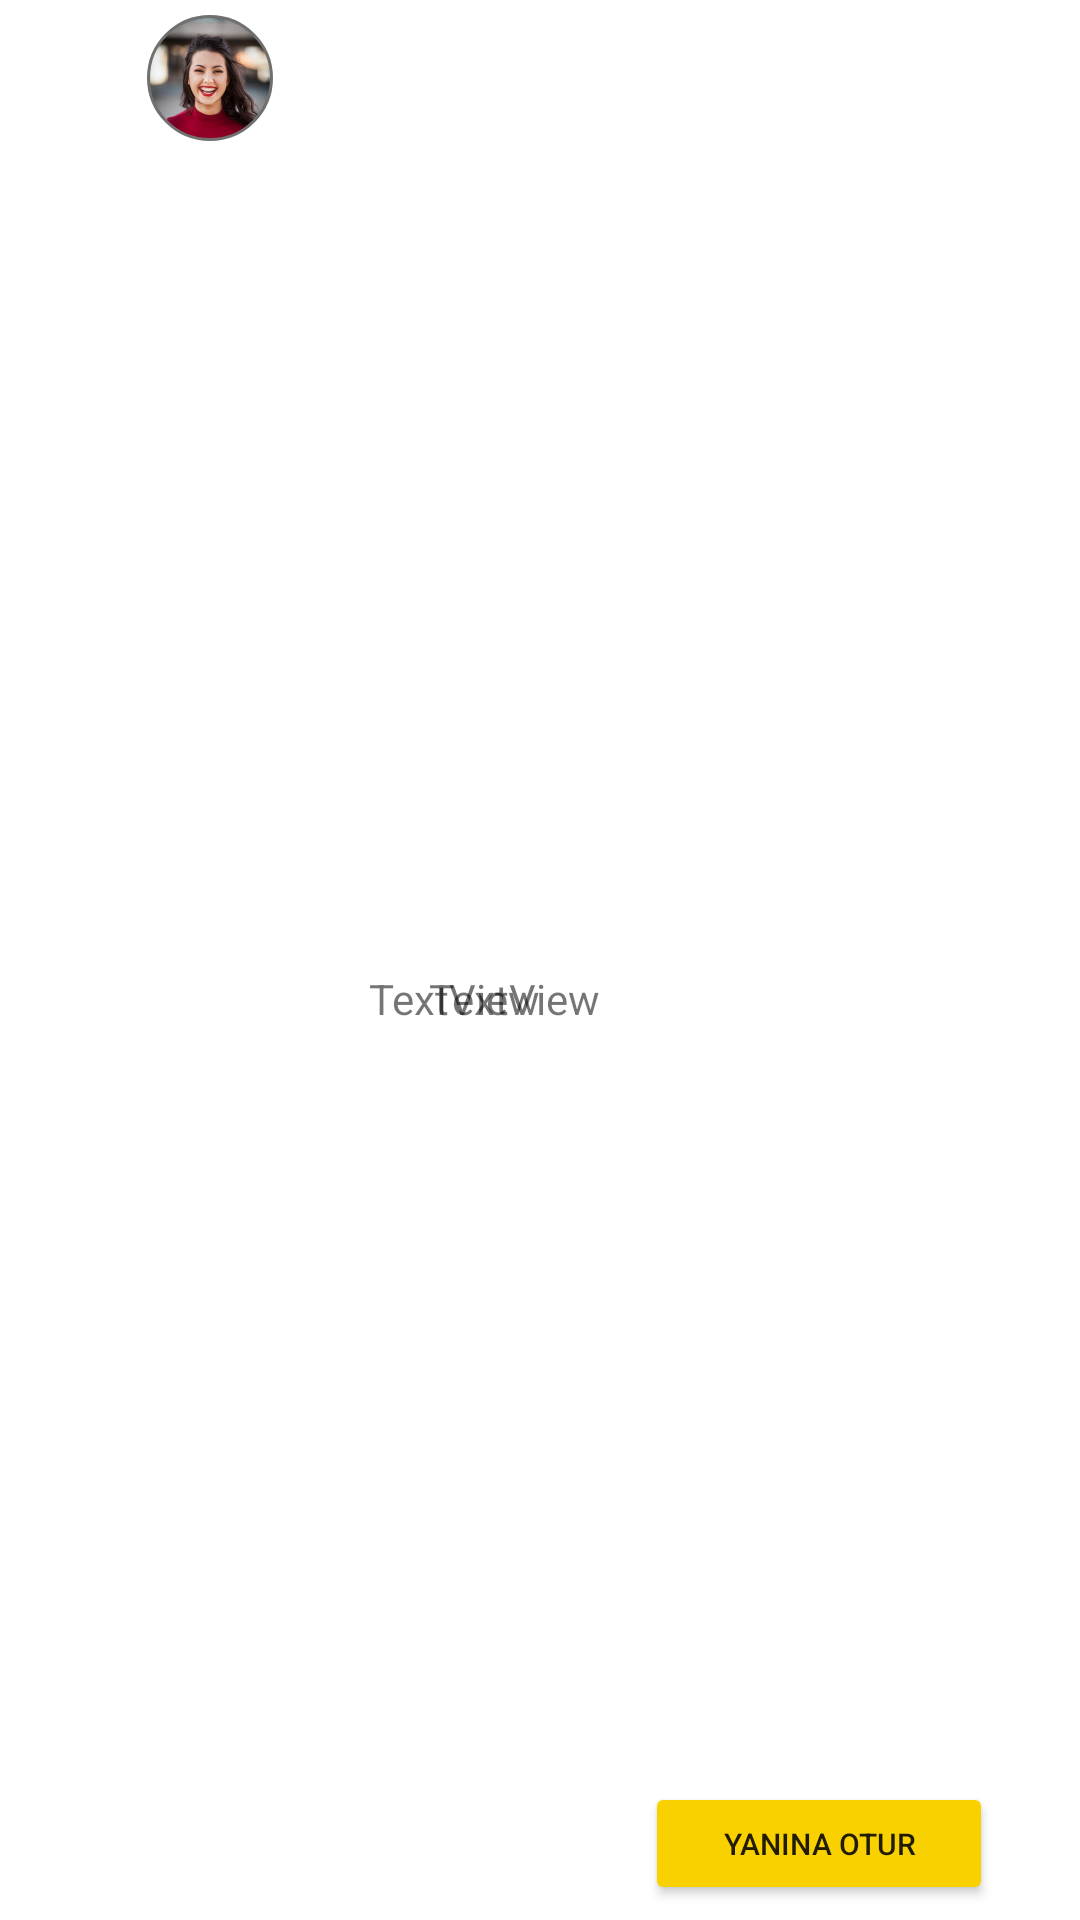

Screen size 1080px x 1920px. Icon name, then its box in pixels as (x1, y1, x2, y2):
profilepic: (147, 15, 273, 141)
